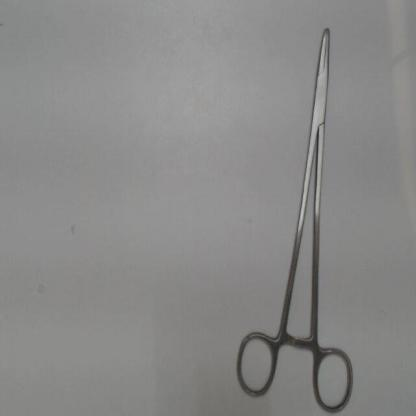8 Mayo Needle Holder: (229, 22, 360, 415)
